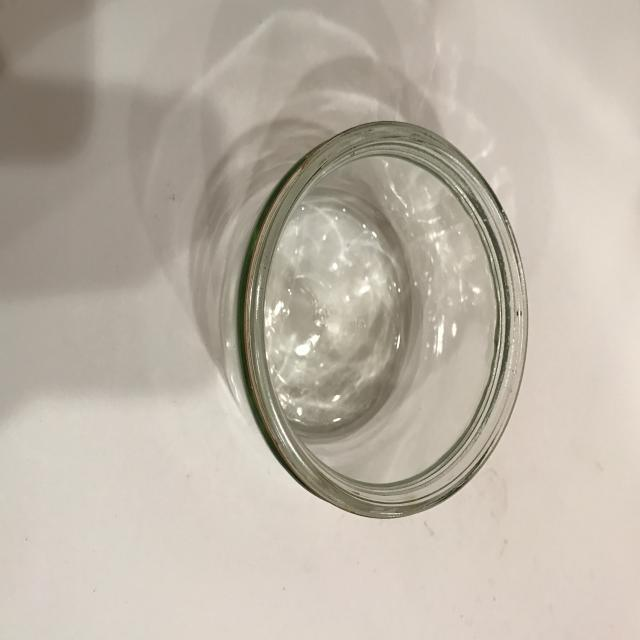glass: (217, 120, 530, 524)
